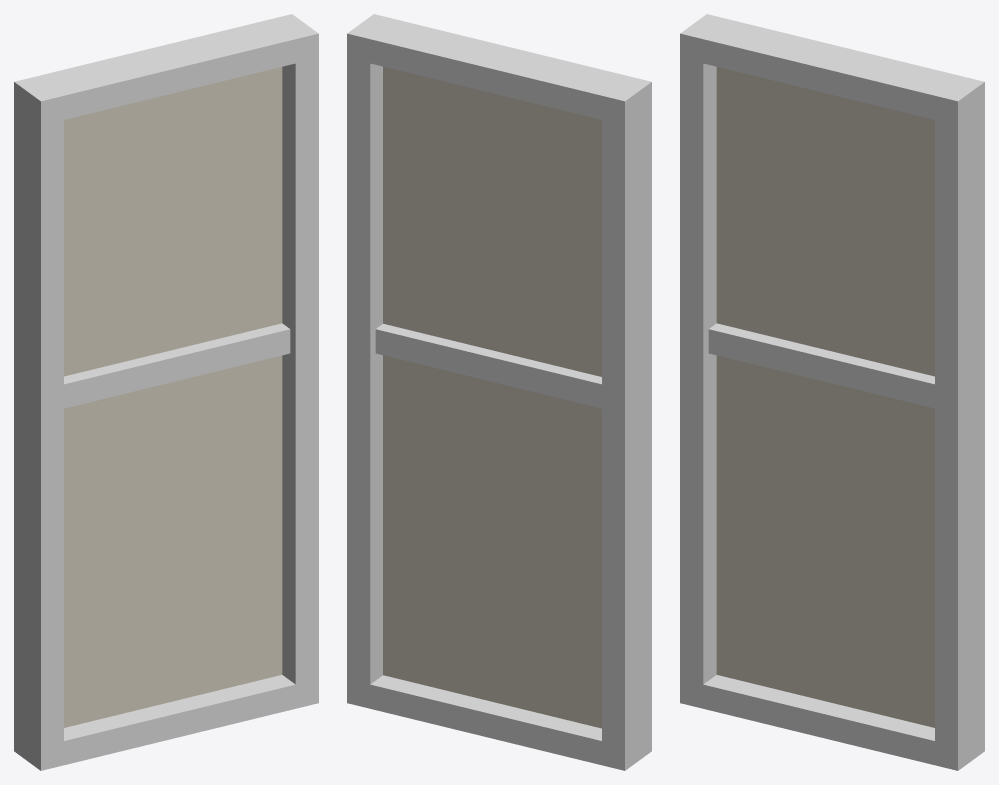
Rendered from Window_small.fbx.
The picture shows the model from 3 angles, left to right: view 1: azimuth 30°, elevation 25°; view 2: azimuth 150°, elevation 25°; view 3: azimuth 330°, elevation 25°; orthographic projection.
Visible parts, largest first — view 1: mesh_window_small; view 2: mesh_window_small; view 3: mesh_window_small.
Part boxes in pixels (x1=…): mesh_window_small: x1=14, y1=14, x2=318, y2=770; mesh_window_small: x1=347, y1=14, x2=651, y2=770; mesh_window_small: x1=680, y1=14, x2=984, y2=770.
Bounding box in the file's own units: 60 × 138 × 10.
